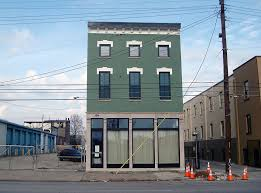Building House: (82, 18, 189, 170)
